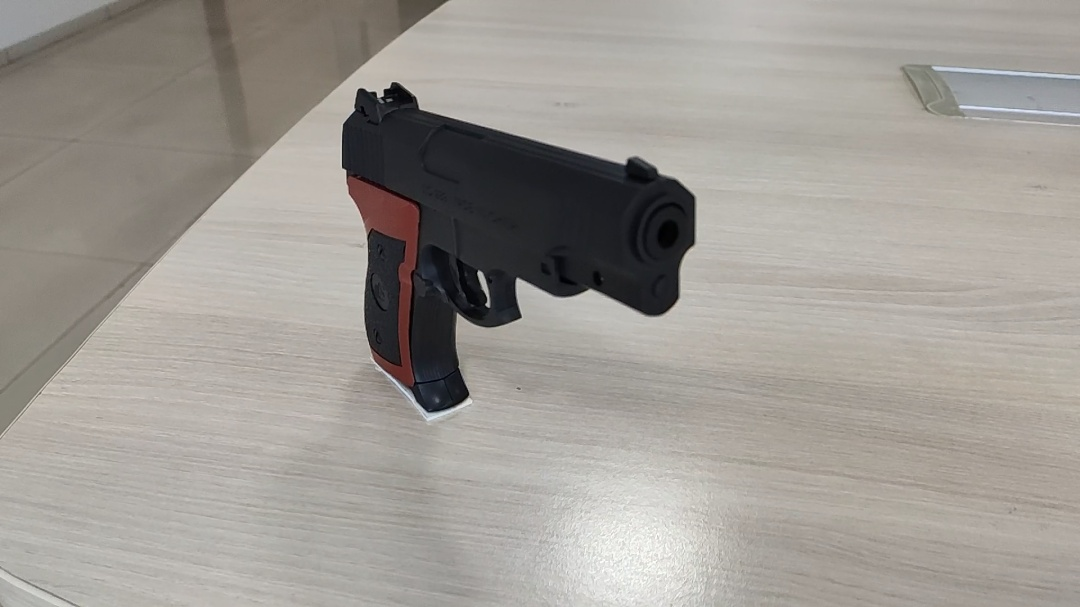gun: (581, 254, 615, 299)
